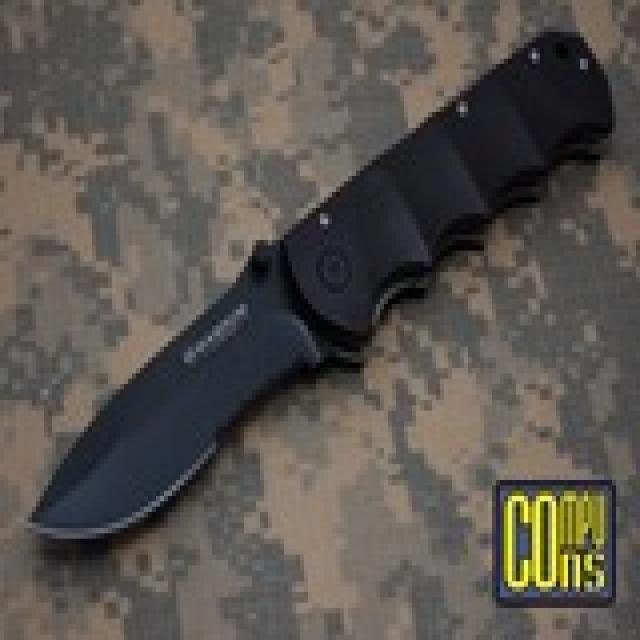Knife: (16, 25, 609, 580)
